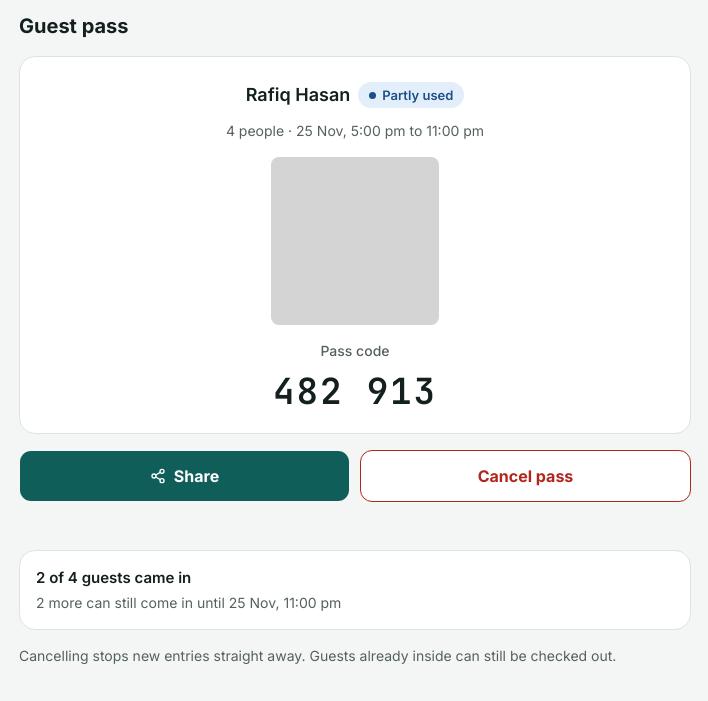
Scenario: PassCodeView › copies the pass where there is no share sheet, as on a laptop
Click the button "Share": (184, 476) [19, 450, 350, 502]
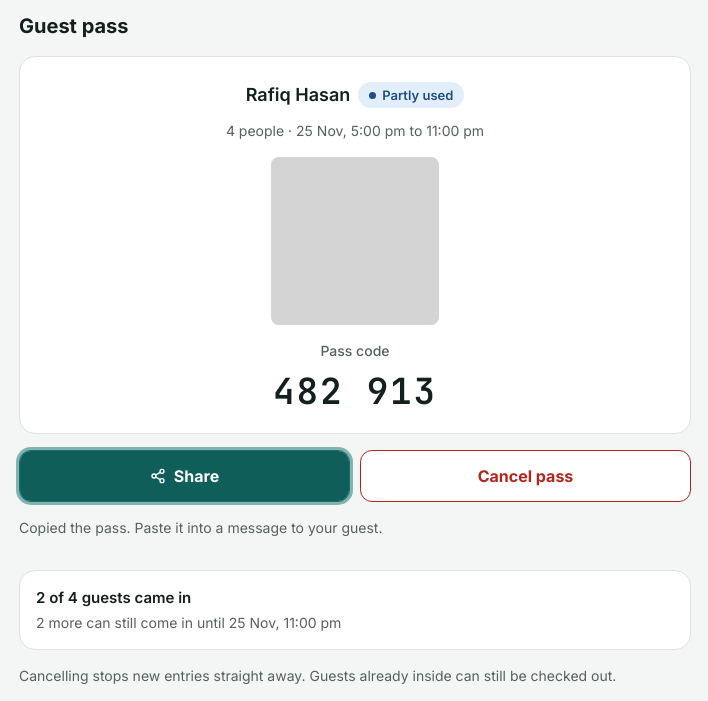
Check: the text "Copied the pass. Paste it into a message to your guest." is shown, box [19, 519, 382, 536]
